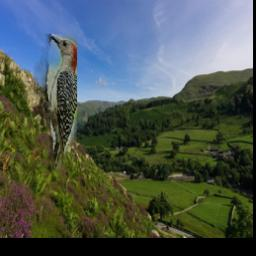Woodpecker: (34, 34, 77, 177)
